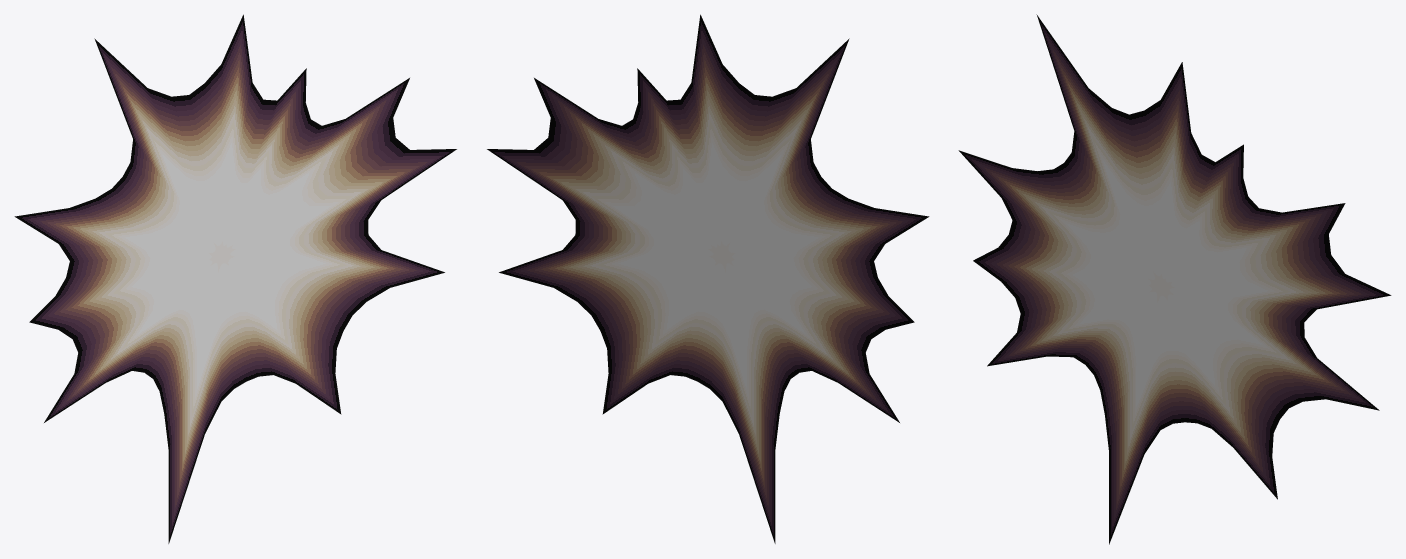
File: ember-fire.glb
3 views of the same model, side by side, from view 1: azimuth 30°, elevation 25°; view 2: azimuth 150°, elevation 25°; view 3: azimuth 330°, elevation 25° (orthographic). The views are drawn at different scales.
Parts seen in each view (by area): view 1: polygon0; view 2: polygon0; view 3: polygon0.
Part boxes in pixels (x1,y1,x2,y2): polygon0: [14, 14, 456, 543]; polygon0: [487, 14, 929, 543]; polygon0: [958, 14, 1391, 544].
Size of the model in its own units: 10.63 by 12.02 by 0.
1 material, 1 textured.
